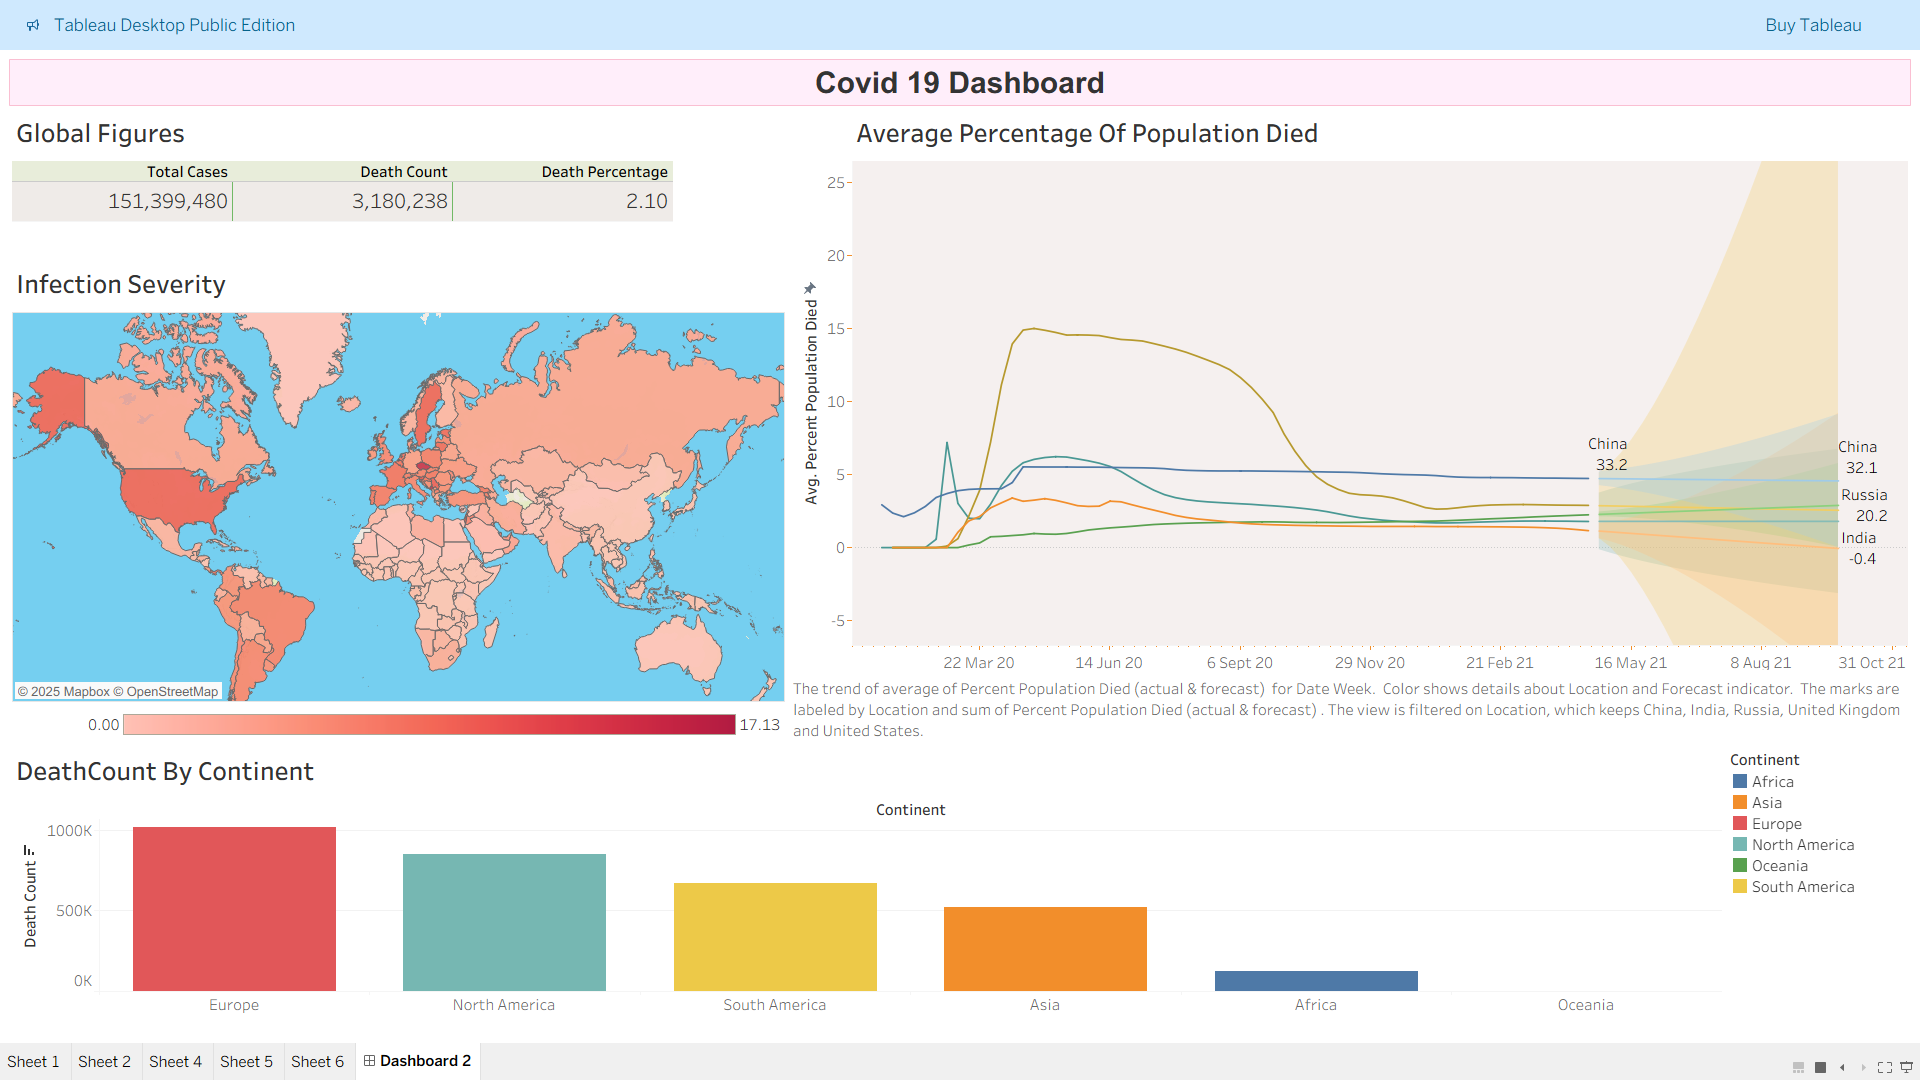

What the dashboard file says about the page in this screenshot:
{"tool":"tableau","page":{"name":"Dashboard 2","canvas":[1000,1000],"units":"permille","ordinal":0},"visuals":[{"type":"title","box":[4.8,10,990.3,61.2]},{"type":"worksheet","title":"Sheet 2","mark":"Automatic","box":[4.8,71.2,406.1,149.6]},{"type":"worksheet","title":"Sheet 4","mark":"Automatic","rows":["percentpopulationdied"],"cols":["date"],"box":[411,71.2,584.2,631.9]},{"type":"worksheet","title":"Sheet 1","mark":"Automatic","box":[4.8,220.8,406.1,443.7]},{"type":"legend","title":"Sheet 1","param":"[federated.0n51z0608dw9mc141mlps1bbt5xk].[sum:percentage infeted:qk]","box":[4.8,664.5,406.1,38.6]},{"type":"worksheet","title":"Sheet 5","mark":"Automatic","rows":["Death Count"],"cols":["Continent"],"box":[4.8,703.1,893.8,286.9]},{"type":"legend","title":"Sheet 5","param":"[federated.0842lb91dlxajd1e40ynm0hqe8ru].[none:Continent:nk]","box":[898.6,703.1,96.6,286.9]}]}

Visuals, with their boxes on the dashboard's canvas, which has no fixed pixel size, in thousandths of its width and height (x1, y1, x2, y2). These are canvas units, not pixel positions in the 1920x1080 screenshot, which may show the page scaled, cropped or inside an application window:
title: box=[5, 10, 995, 71]
"Sheet 2" worksheet: box=[5, 71, 411, 221]
"Sheet 4" worksheet: box=[411, 71, 995, 703]
"Sheet 1" worksheet: box=[5, 221, 411, 664]
"Sheet 1" legend: box=[5, 664, 411, 703]
"Sheet 5" worksheet: box=[5, 703, 899, 990]
"Sheet 5" legend: box=[899, 703, 995, 990]
